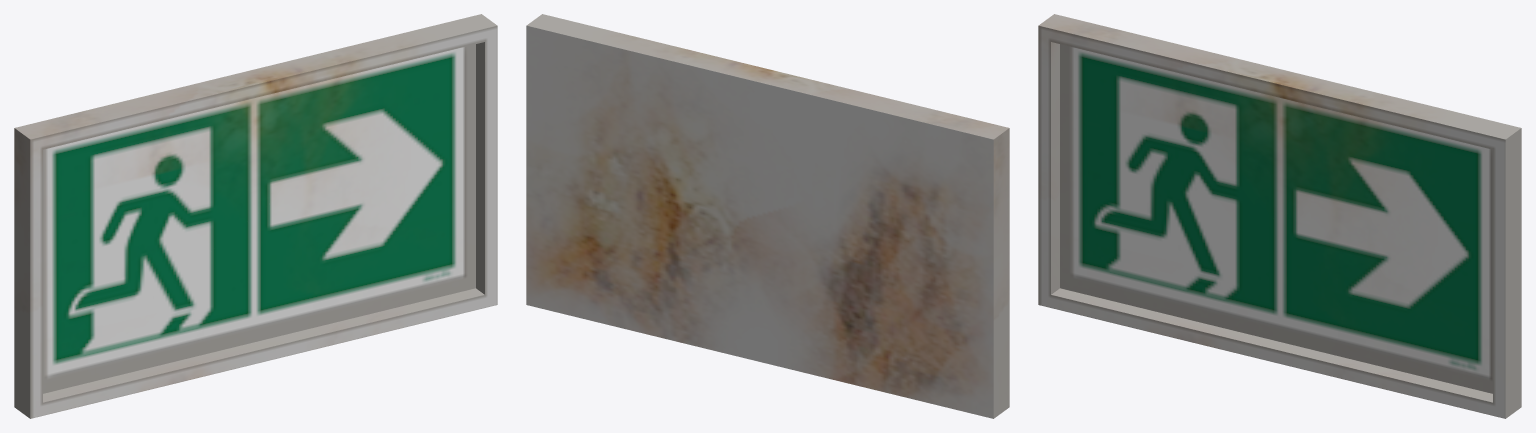
File: Emergency_Hallway_20191202_01.FBX
The picture shows the model from 3 angles, left to right: view 1: azimuth 30°, elevation 25°; view 2: azimuth 150°, elevation 25°; view 3: azimuth 330°, elevation 25°; orthographic projection.
Parts seen in each view (by area): view 1: Emergency; view 2: Emergency; view 3: Emergency.
Boxes of the visible parts, <box> form: Emergency: <box>14,14,497,418</box>; Emergency: <box>526,14,1009,418</box>; Emergency: <box>1038,14,1521,418</box>.
Size of the model in its own units: 43.6 by 24.91 by 2.57.
